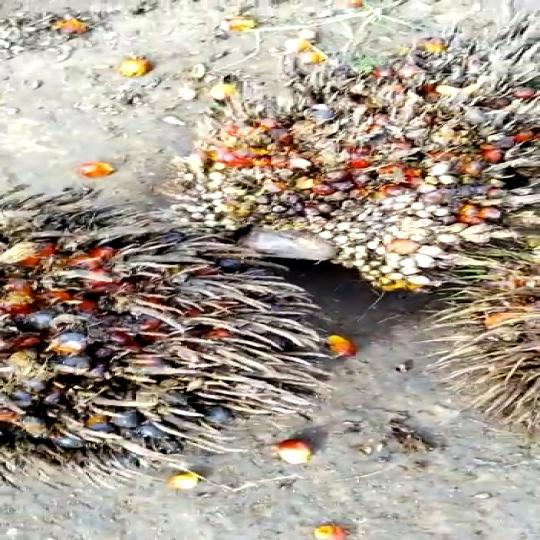terlalu masak: (169, 34, 540, 282)
